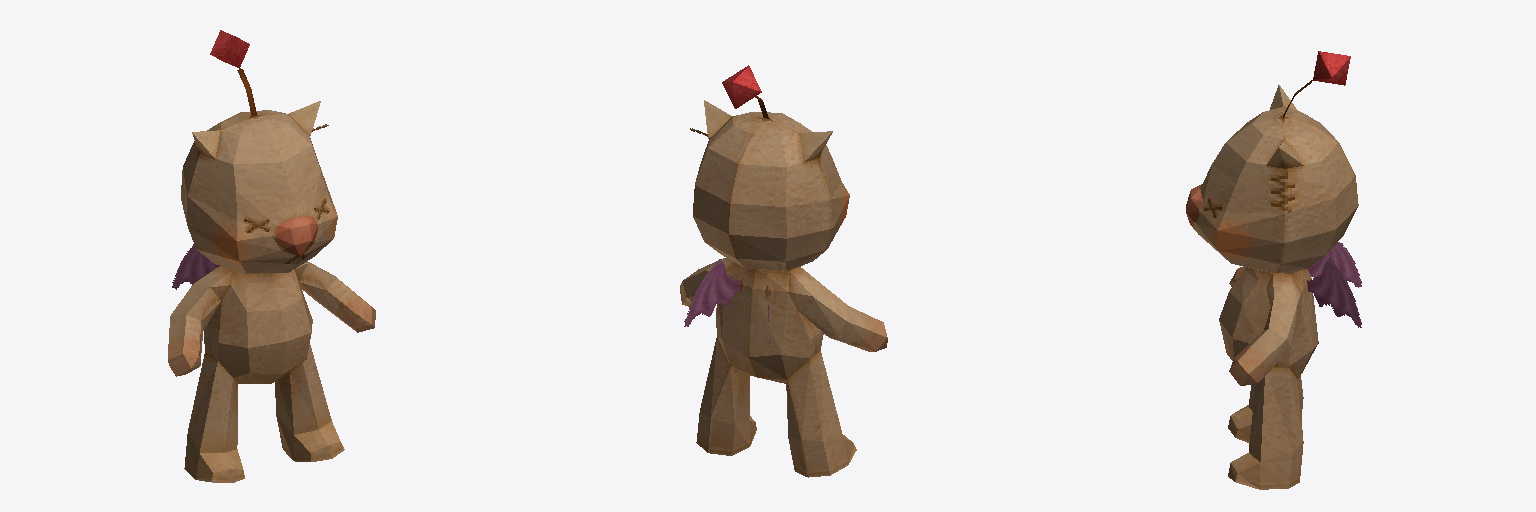
The picture shows the model from 3 angles: view 1: azimuth 30°, elevation 25°; view 2: azimuth 150°, elevation 25°; view 3: azimuth 270°, elevation 25°; orthographic projection.
Visible parts, largest first — view 1: moogle; view 2: moogle; view 3: moogle.
Boxes of the visible parts, <box> form: moogle: <box>168,30,375,482</box>; moogle: <box>680,65,887,477</box>; moogle: <box>1186,51,1361,489</box>.
Bounding box in the file's own units: 2442 × 4595 × 1904.
Materials: 1 (1 with a texture image).